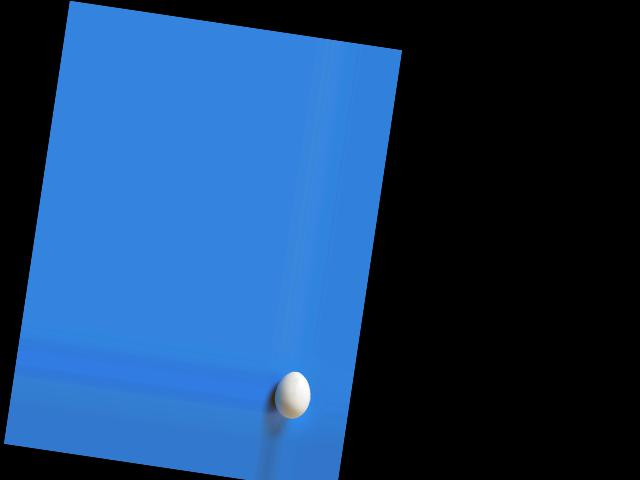egg: (271, 368, 313, 421)
